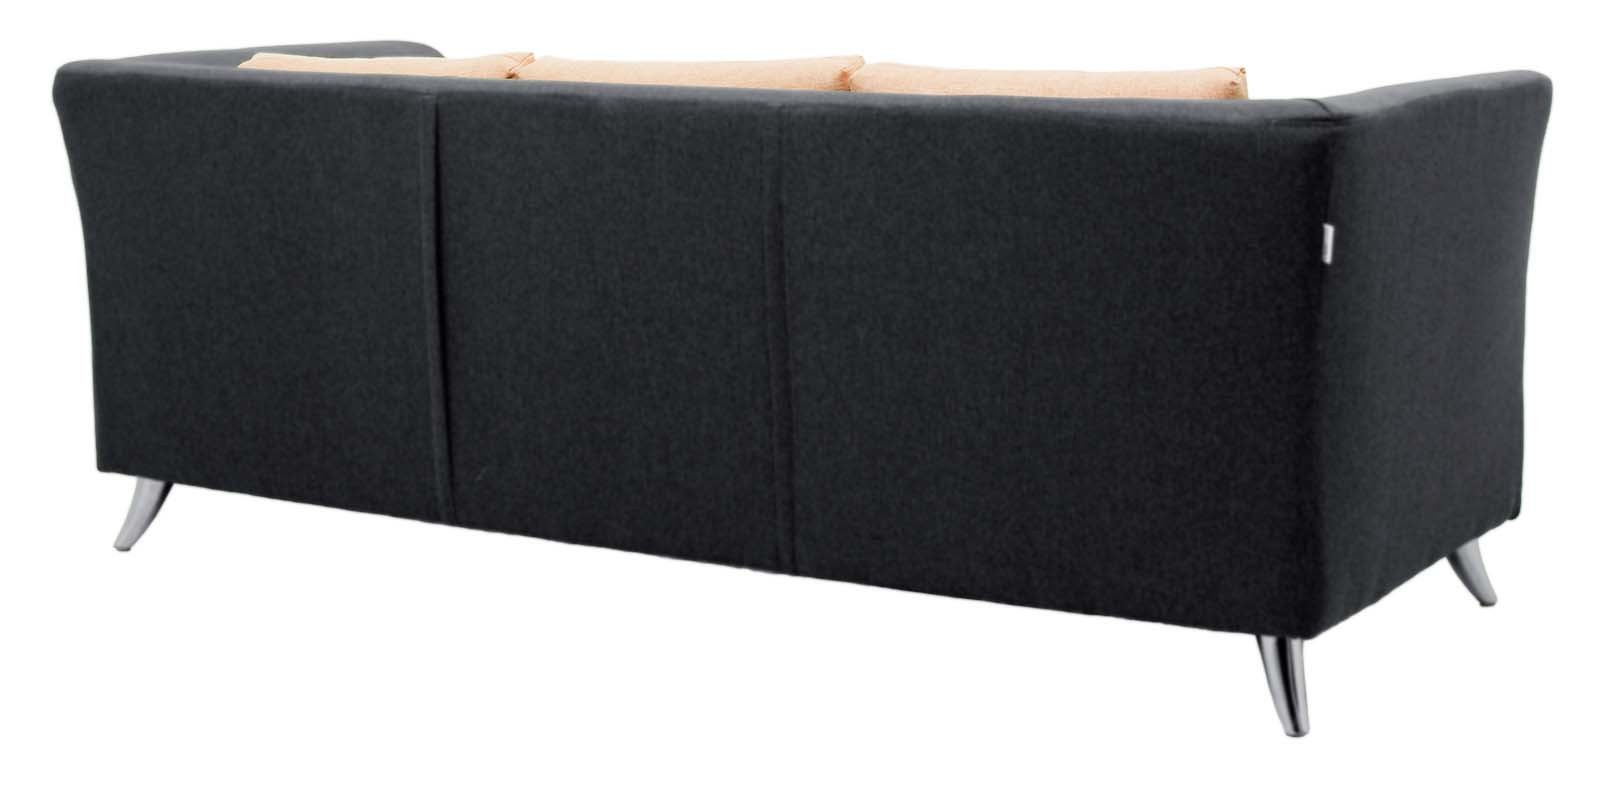Iowa Three Seater Sofa in Steel Grey Colour by Furnitech: (19, 31, 1574, 764)
